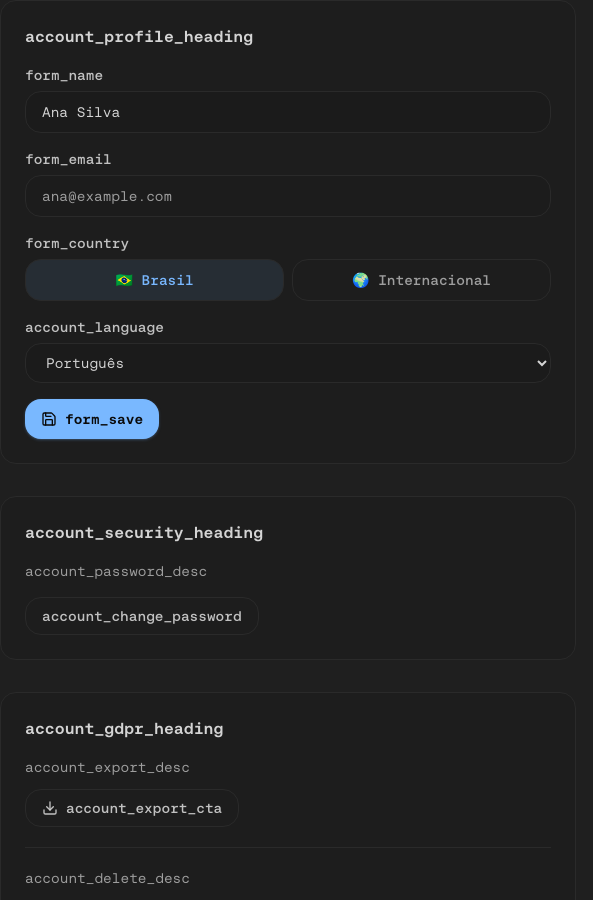
AccountSection › desabilita salvar quando o nome tem menos de 2 caracteres (edge)
Replace the text in the field showing "Ana Silva" with "A" at (288, 112), box [25,91,551,133]
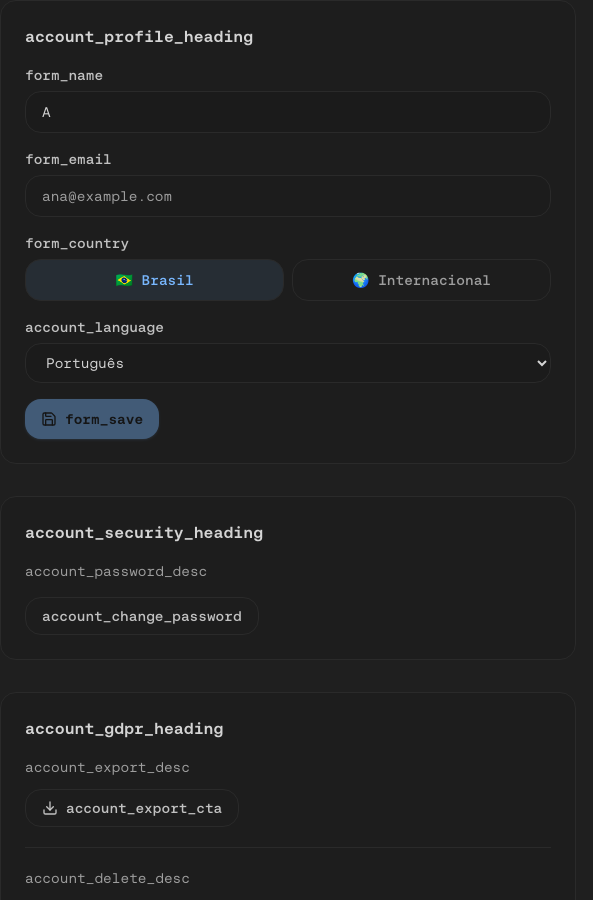
Expected: the button "form_save" is disabled, [25,399,159,439]
